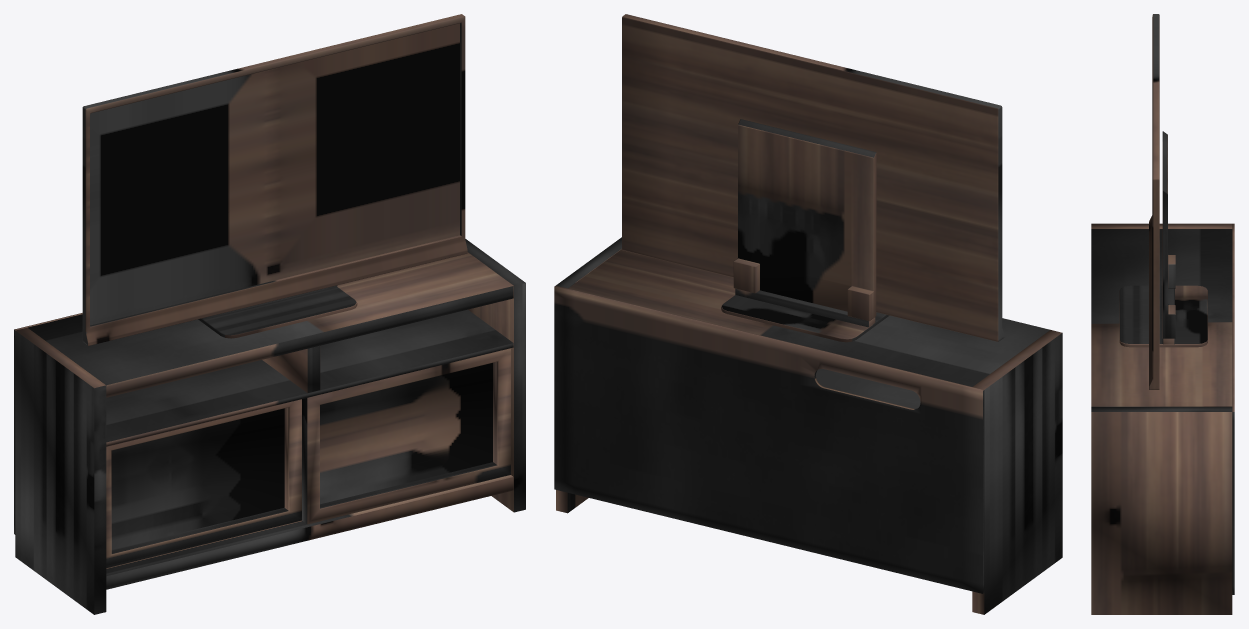
Rendered from cb-moore_baked.glb.
3 views of the same model, side by side, from view 1: azimuth 30°, elevation 25°; view 2: azimuth 150°, elevation 25°; view 3: azimuth 270°, elevation 25° (orthographic). The views are drawn at different scales.
Parts seen in each view (by area): view 1: Mesh_0.021; view 2: Mesh_0.021; view 3: Mesh_0.021.
Boxes of the visible parts, x1=… form: Mesh_0.021: x1=14, y1=14, x2=525, y2=614; Mesh_0.021: x1=554, y1=14, x2=1062, y2=614; Mesh_0.021: x1=1091, y1=14, x2=1234, y2=614.
Size of the model in its own units: 153 by 160 by 49.17.
1 material, 1 textured.
